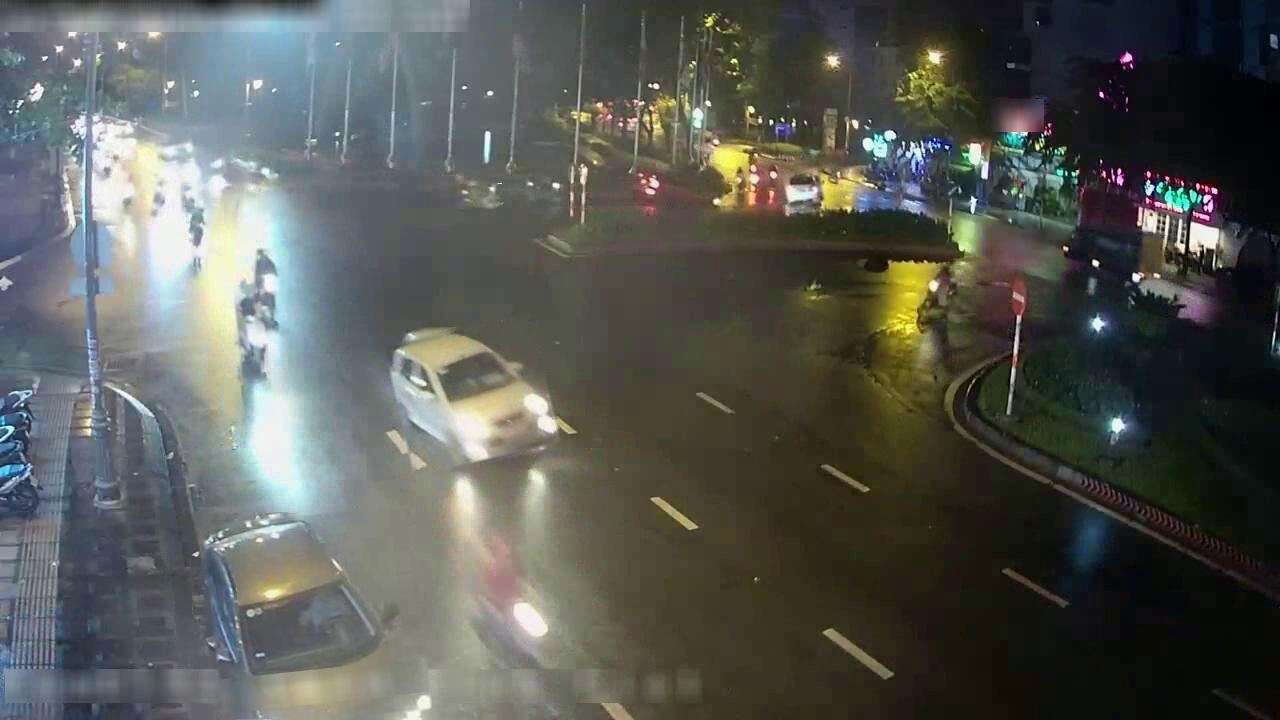Car: (202, 513, 385, 676), (389, 327, 559, 463), (632, 170, 722, 208), (0, 463, 39, 517), (785, 173, 821, 206), (158, 140, 194, 164), (0, 442, 27, 466)
Motorcyclist: (237, 282, 267, 375), (917, 266, 957, 314), (254, 248, 278, 326), (461, 183, 502, 209), (523, 176, 564, 202), (188, 208, 206, 256), (246, 158, 277, 185), (151, 178, 167, 217), (119, 175, 135, 212), (181, 182, 197, 214), (206, 151, 226, 175)
Sign: (1010, 277, 1027, 316)
